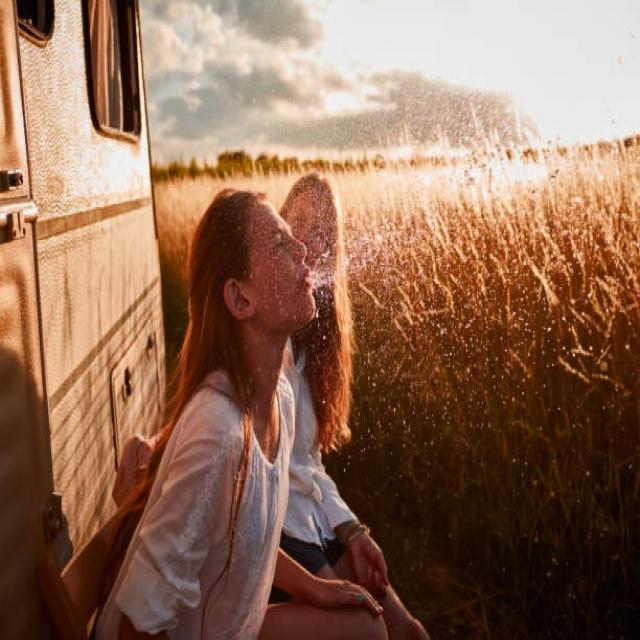Spitting: (189, 157, 391, 449)
